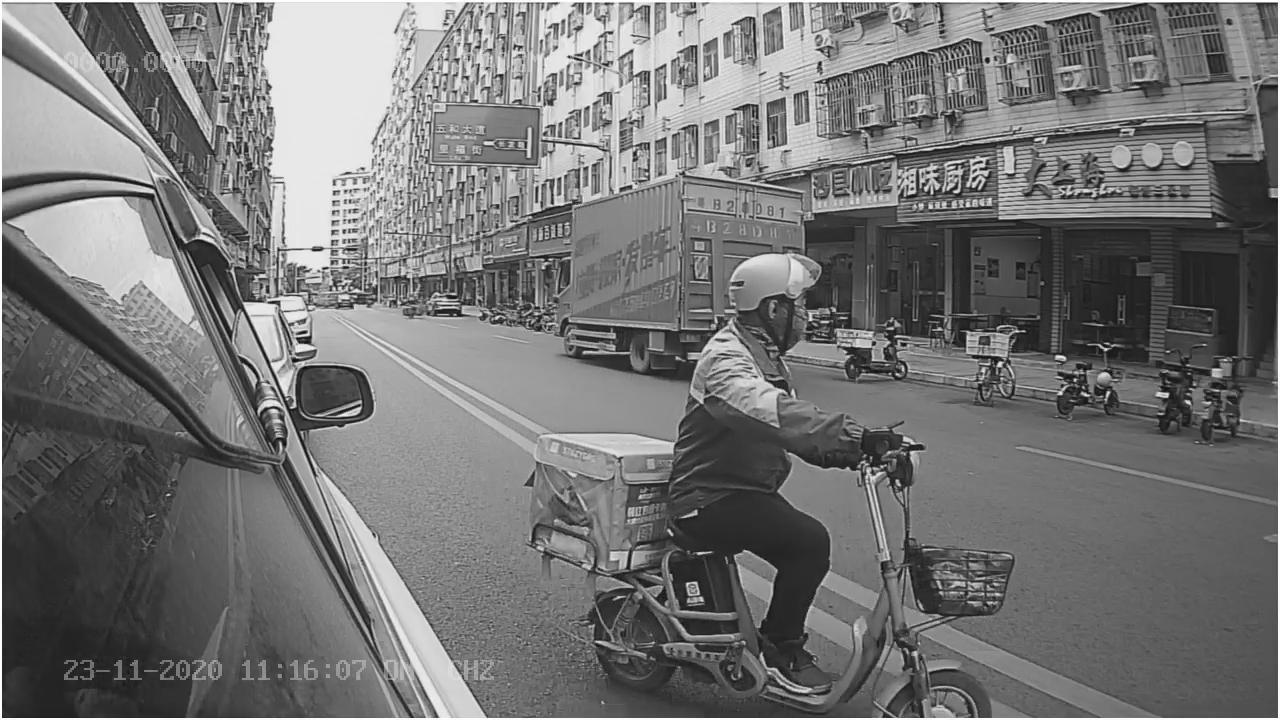person: (667, 244, 921, 454)
